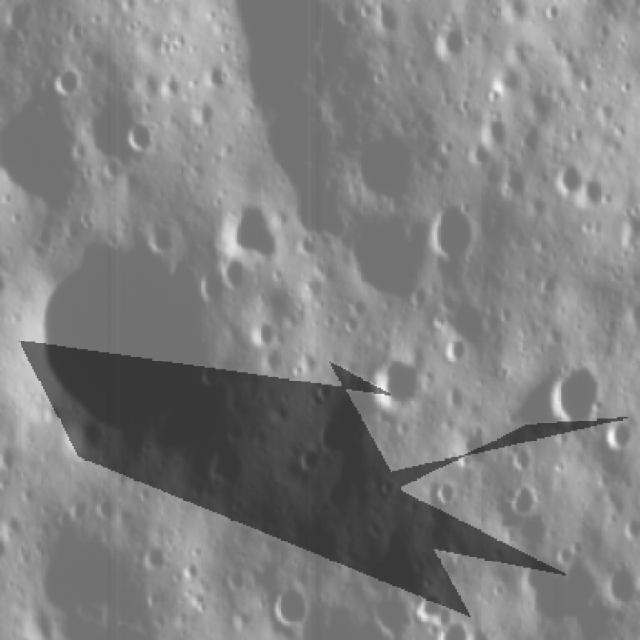crater: (4, 228, 241, 461), (0, 72, 91, 215), (334, 195, 444, 310), (350, 117, 432, 211), (213, 193, 290, 272), (538, 357, 607, 434), (366, 354, 440, 424), (426, 199, 482, 272), (260, 580, 322, 635), (474, 111, 517, 163), (422, 19, 469, 64), (402, 583, 447, 626), (507, 476, 548, 521), (370, 0, 408, 42), (123, 112, 155, 157), (431, 473, 460, 516), (432, 618, 474, 640), (0, 524, 14, 570)
